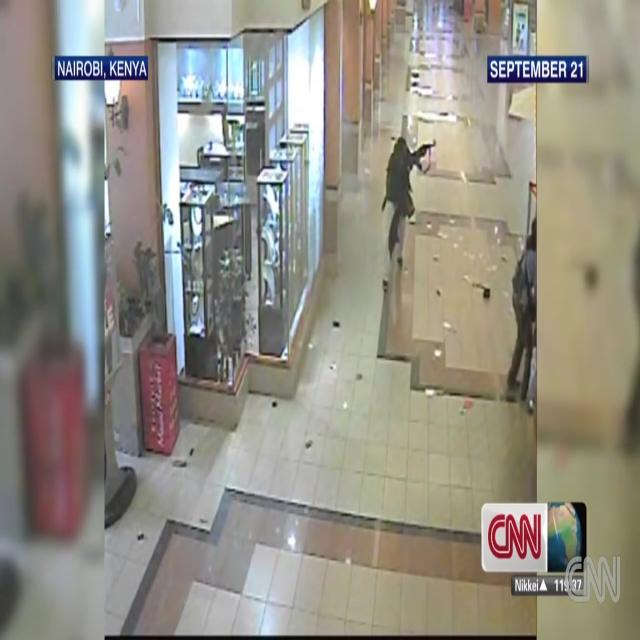Weapon: (398, 128, 448, 152)
